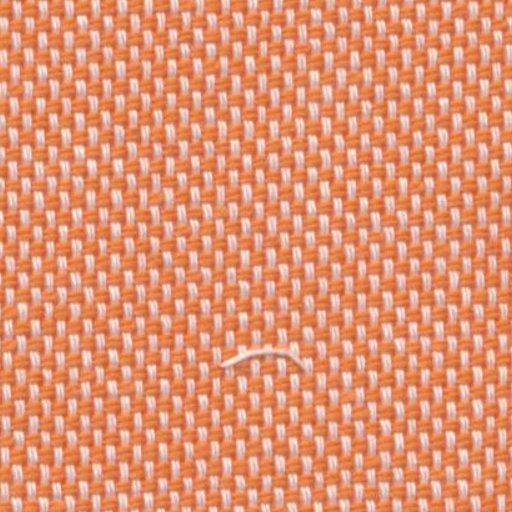DuanSha: (214, 327, 332, 390)
